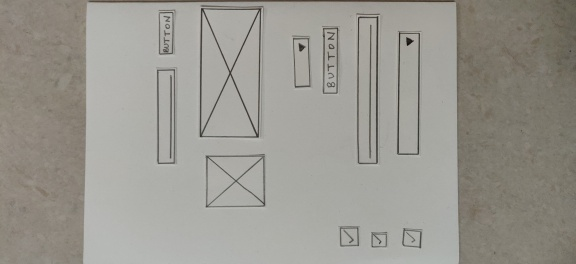button: (318, 23, 342, 97), (155, 6, 179, 59)
checkbox: (336, 222, 362, 252), (398, 226, 426, 251), (367, 227, 392, 253)
dropdown: (394, 29, 425, 160), (288, 33, 315, 94)
img: (195, 4, 267, 142), (200, 152, 269, 210)
text: (352, 11, 382, 167), (153, 65, 180, 169)
